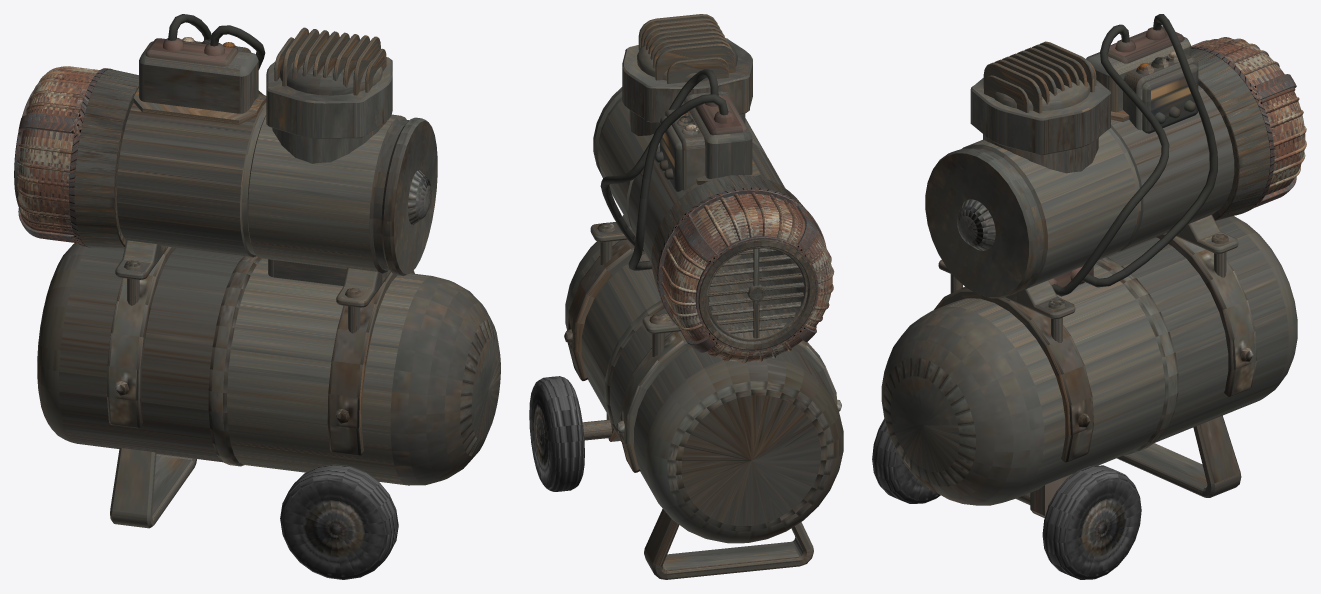
Rendered from prop_medium_006.glb.
3 views of the same model, side by side, from view 1: azimuth 30°, elevation 25°; view 2: azimuth 150°, elevation 25°; view 3: azimuth 270°, elevation 25° (orthographic). The views are drawn at different scales.
Parts seen in each view (by area): view 1: Building_12_025; view 2: Building_12_025; view 3: Building_12_025.
Part boxes in pixels (box(x1,y1,x2,y2)): Building_12_025: box(14, 14, 500, 579); Building_12_025: box(529, 14, 843, 579); Building_12_025: box(872, 14, 1306, 579).
Size of the model in its own units: 0.9957 by 1.2 by 1.01.
1 material, 1 textured.
